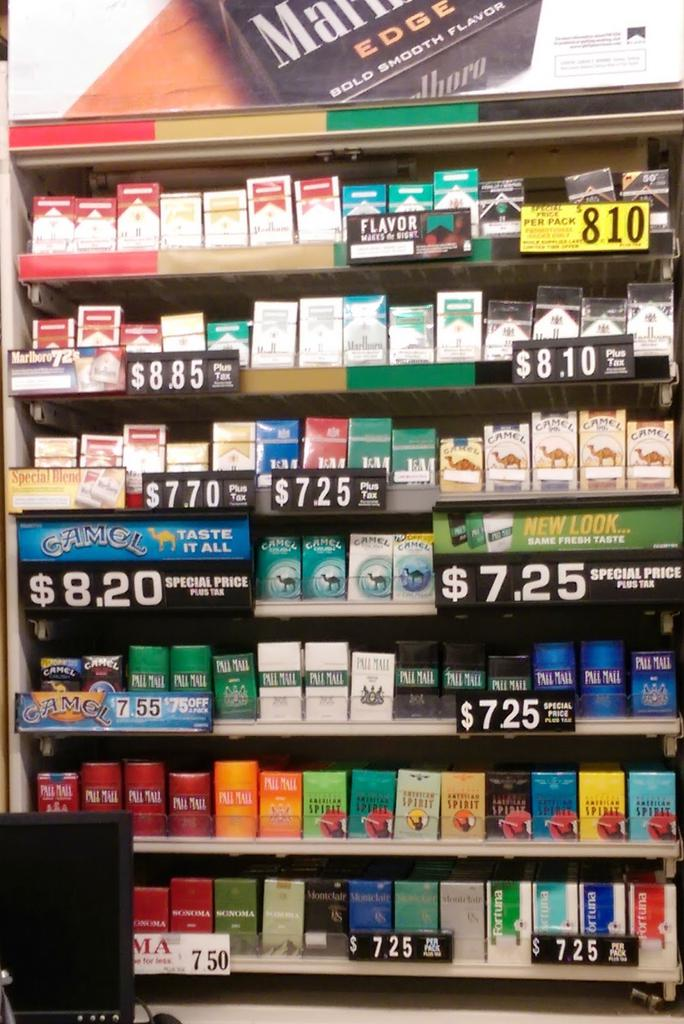marlboro_mentol: (440, 293, 480, 362), (434, 173, 477, 227), (343, 187, 386, 230), (388, 187, 431, 219)
marlboro_red: (246, 173, 291, 253), (114, 182, 160, 256), (28, 196, 80, 253), (297, 179, 340, 242), (74, 307, 120, 353), (77, 202, 114, 253), (28, 316, 74, 356), (120, 327, 160, 359)
